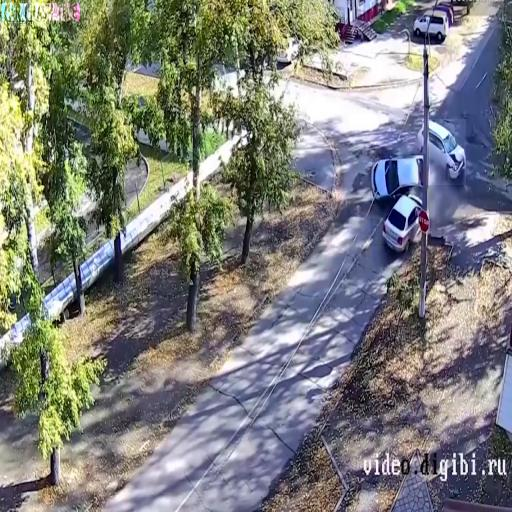小汽车: (422, 119, 466, 185), (413, 10, 449, 43)
小汽车撞小汽车: (370, 154, 426, 246)
